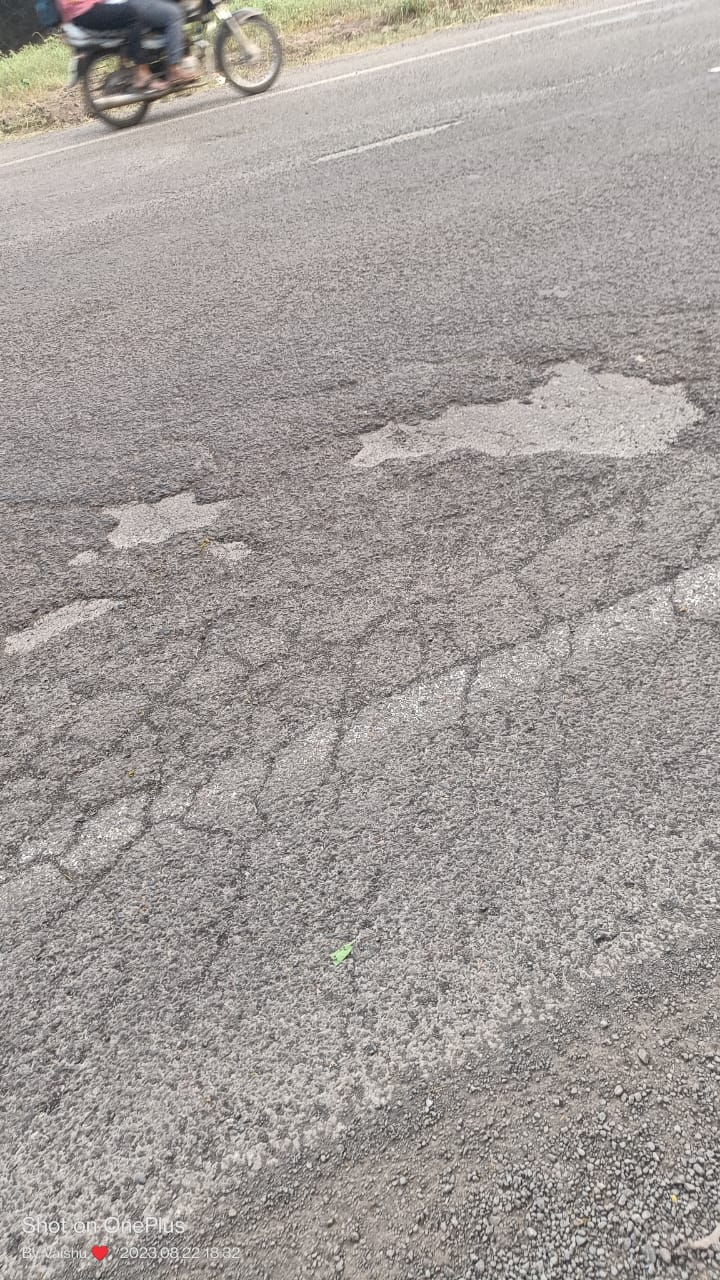Pothole: (337, 351, 720, 481), (77, 479, 250, 575)
